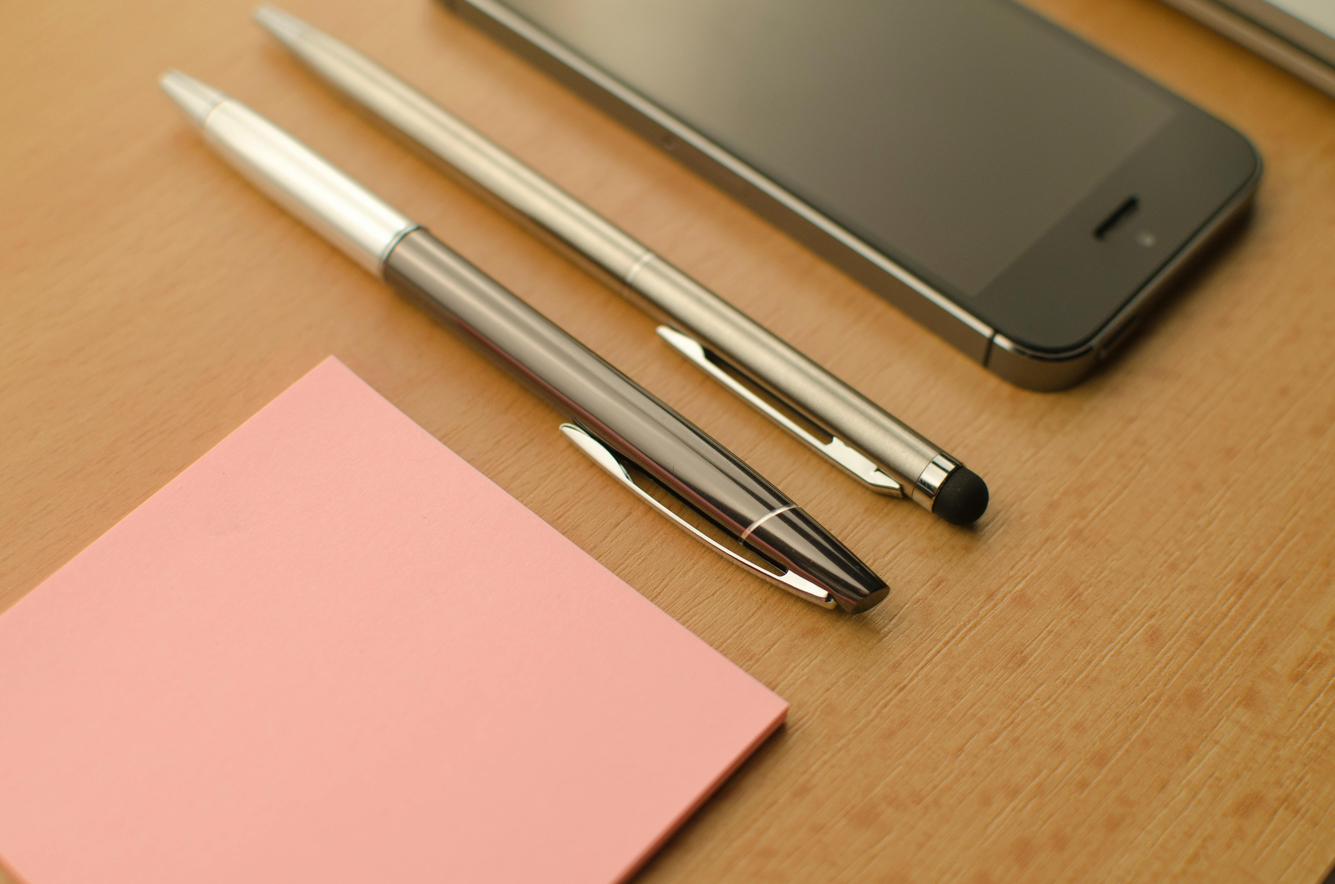paper: (3, 351, 791, 884)
